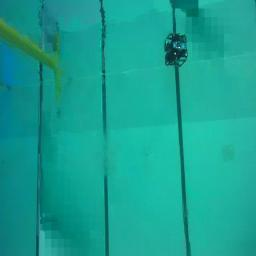Full: (165, 43, 188, 67)
